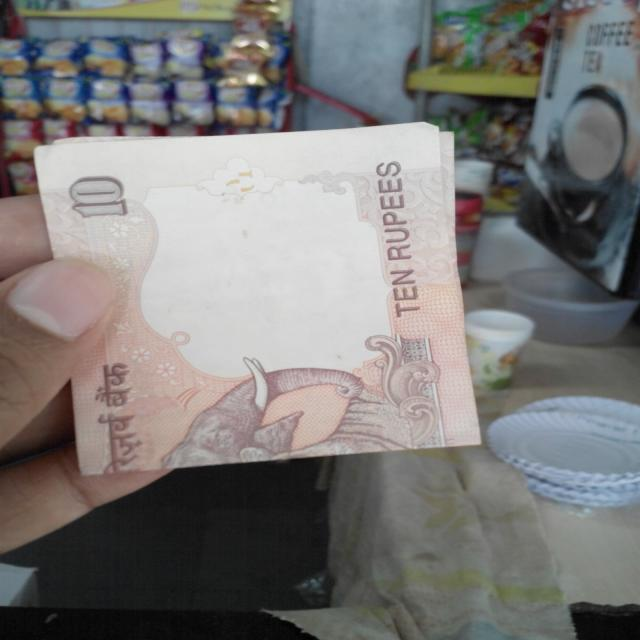10rs: (47, 124, 479, 462)
